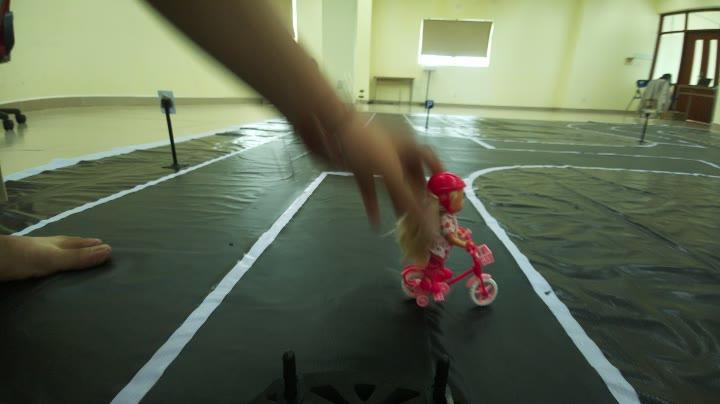pedestrian: (394, 168, 502, 302)
